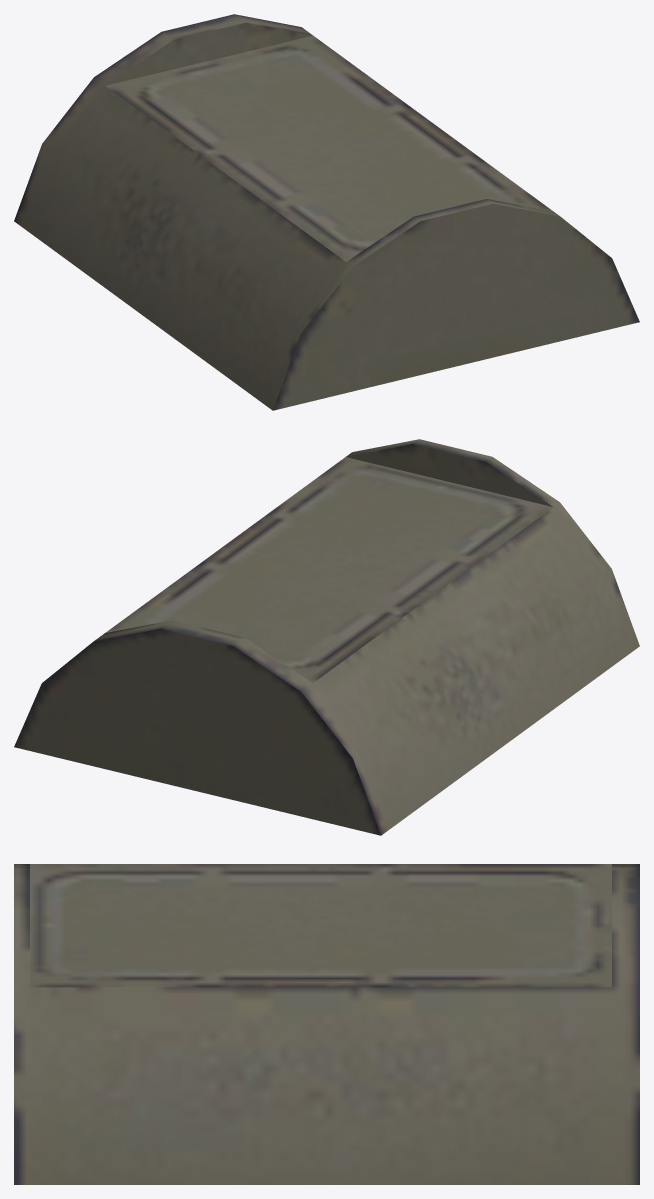
The model's file is Turret_01.glb.
3 renders of one model, top to bottom at view 1: azimuth 30°, elevation 25°; view 2: azimuth 150°, elevation 25°; view 3: azimuth 270°, elevation 25°, orthographic. The views are drawn at different scales.
Parts seen in each view (by area): view 1: set_0_group_0; view 2: set_0_group_0; view 3: set_0_group_0.
Boxes of the visible parts, left/top/right/bottom form: set_0_group_0: left=14, top=14, right=639, bottom=410; set_0_group_0: left=14, top=439, right=639, bottom=835; set_0_group_0: left=14, top=864, right=639, bottom=1184.
Bounding box in the file's own units: 0.5742 × 0.2308 × 0.7015.
Materials: 1 (1 with a texture image).
